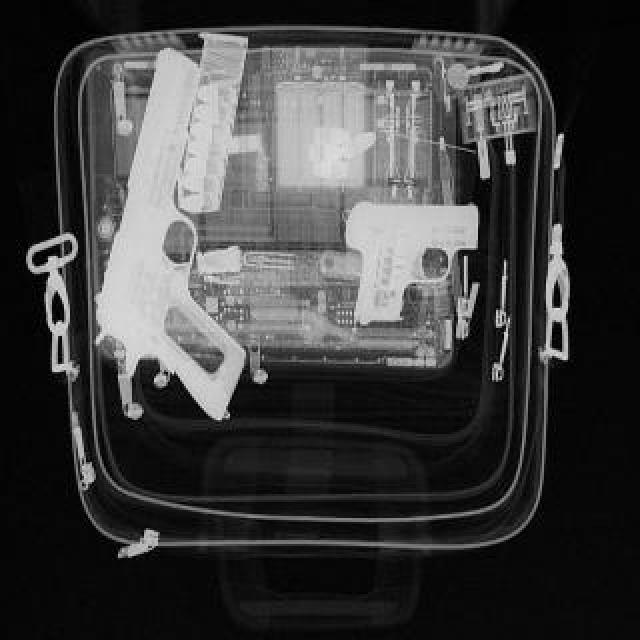gun: (86, 42, 250, 422), (340, 198, 484, 322)
